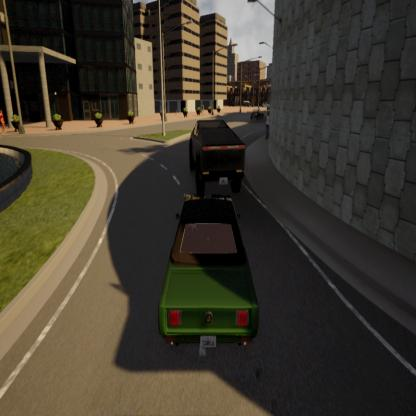Cars: (156, 172, 281, 392), (179, 105, 263, 194)
Pedestrian: (0, 86, 12, 136)
